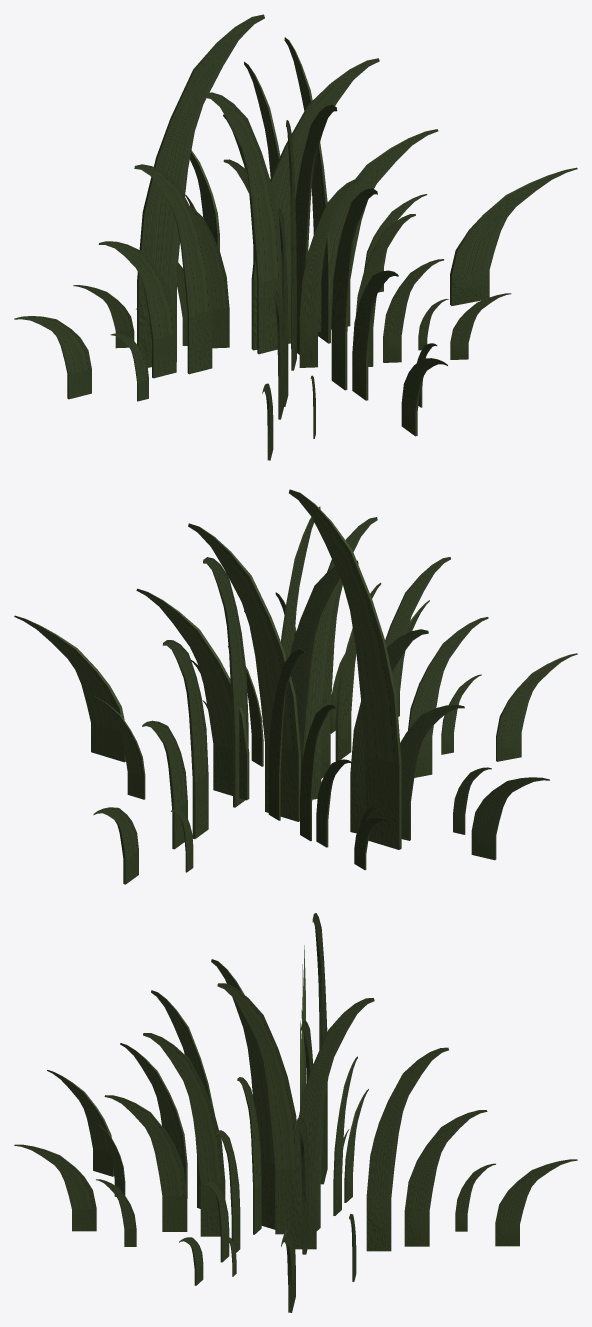
Rendered from GrassTextured (2).fbx.
3 renders of one model, top to bottom at view 1: azimuth 30°, elevation 25°; view 2: azimuth 150°, elevation 25°; view 3: azimuth 270°, elevation 25°, orthographic. The views are drawn at different scales.
Visible parts, largest first — view 1: 3D_Grass; view 2: 3D_Grass; view 3: 3D_Grass.
Boxes of the visible parts, bbox=[...] form: 3D_Grass: bbox=[14, 14, 577, 460]; 3D_Grass: bbox=[14, 489, 577, 884]; 3D_Grass: bbox=[14, 913, 577, 1312].
Size of the model in its own units: 2362 by 1370 by 2274.
Materials: 1 (1 with a texture image).
